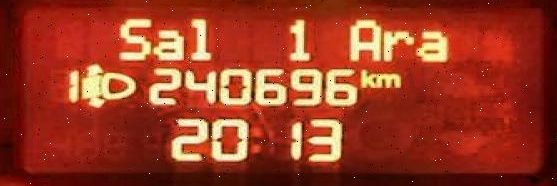0: (207, 115, 247, 161), (217, 65, 250, 105)
1: (285, 15, 317, 62), (287, 117, 302, 160), (63, 66, 77, 104)
2: (170, 114, 207, 160), (145, 65, 180, 106)
3: (307, 115, 342, 161)
4: (184, 66, 215, 104)
6: (323, 65, 357, 105), (252, 66, 283, 105)
9: (287, 65, 322, 105)
X: (347, 16, 380, 61), (117, 15, 148, 60), (380, 26, 412, 60), (417, 28, 448, 63), (154, 26, 184, 60), (189, 15, 210, 60), (248, 124, 262, 154), (377, 70, 400, 87), (357, 67, 375, 87)
